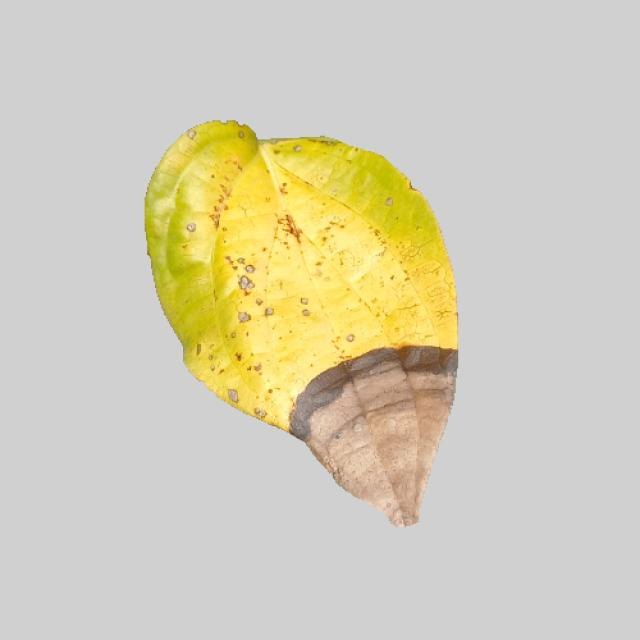leaf-blight: (130, 125, 463, 530)
